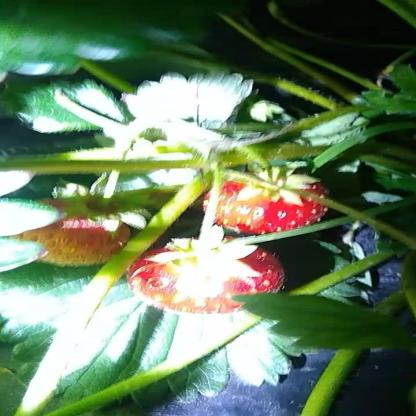ripe: (140, 241, 292, 319), (207, 167, 334, 241)
unripe: (18, 202, 133, 270)
